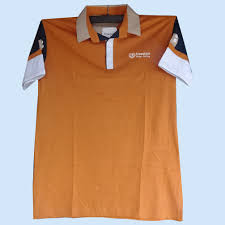C_polo shirt: (30, 8, 205, 223)
